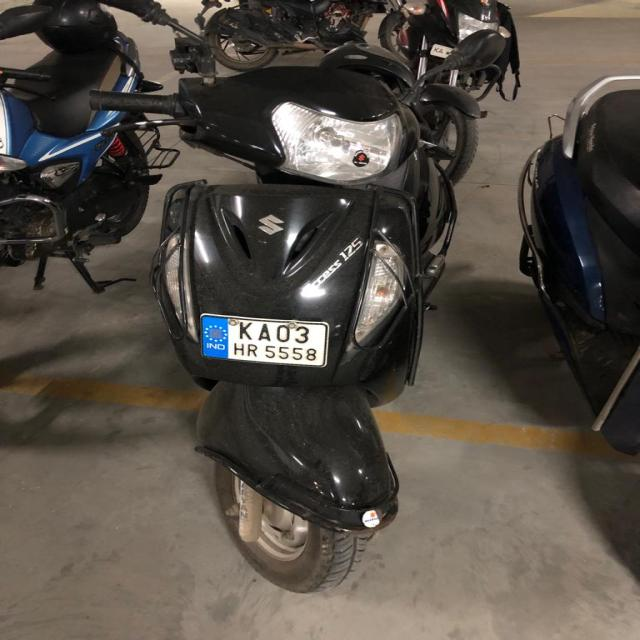license_plate: (198, 312, 329, 368)
